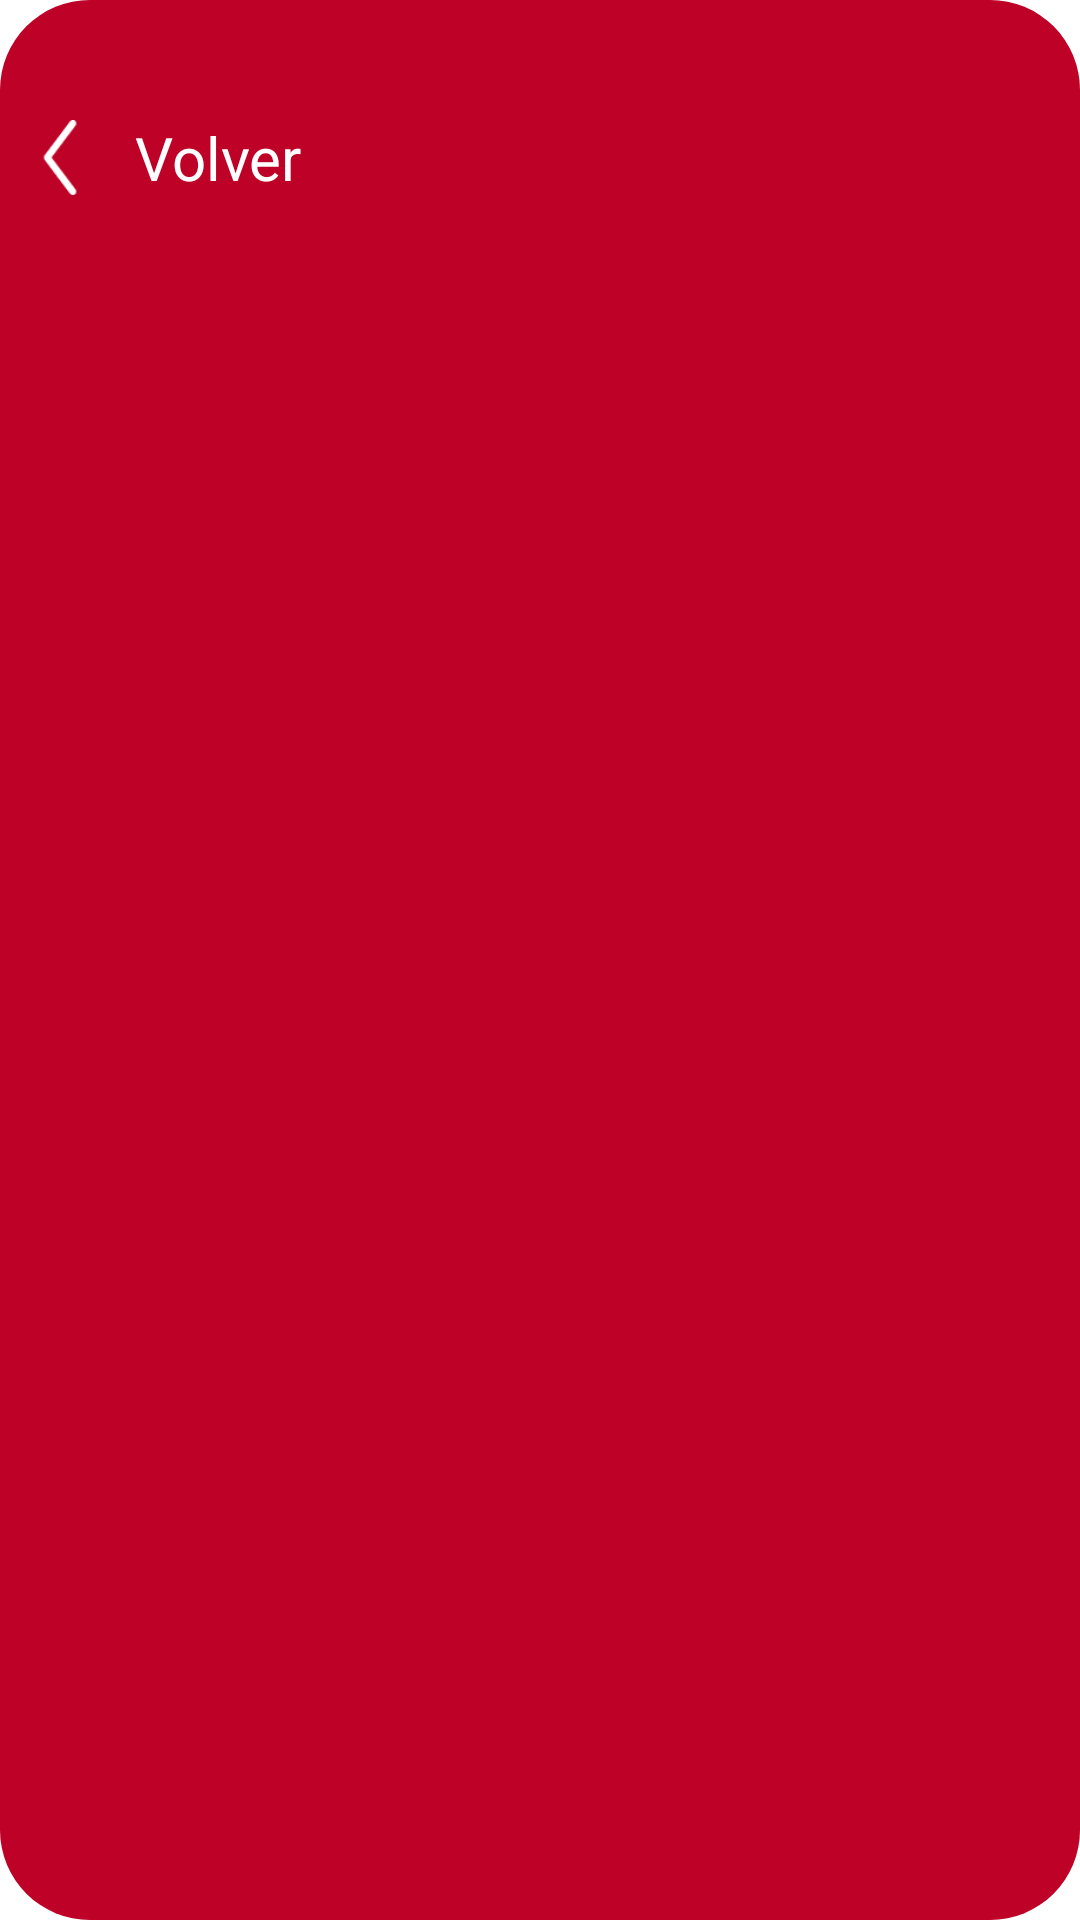

Screen size 1080w x 1920h. Icon name, then its box in pixels as (x1, y1, x2, y2):
left arrow: (43, 120, 77, 195)
